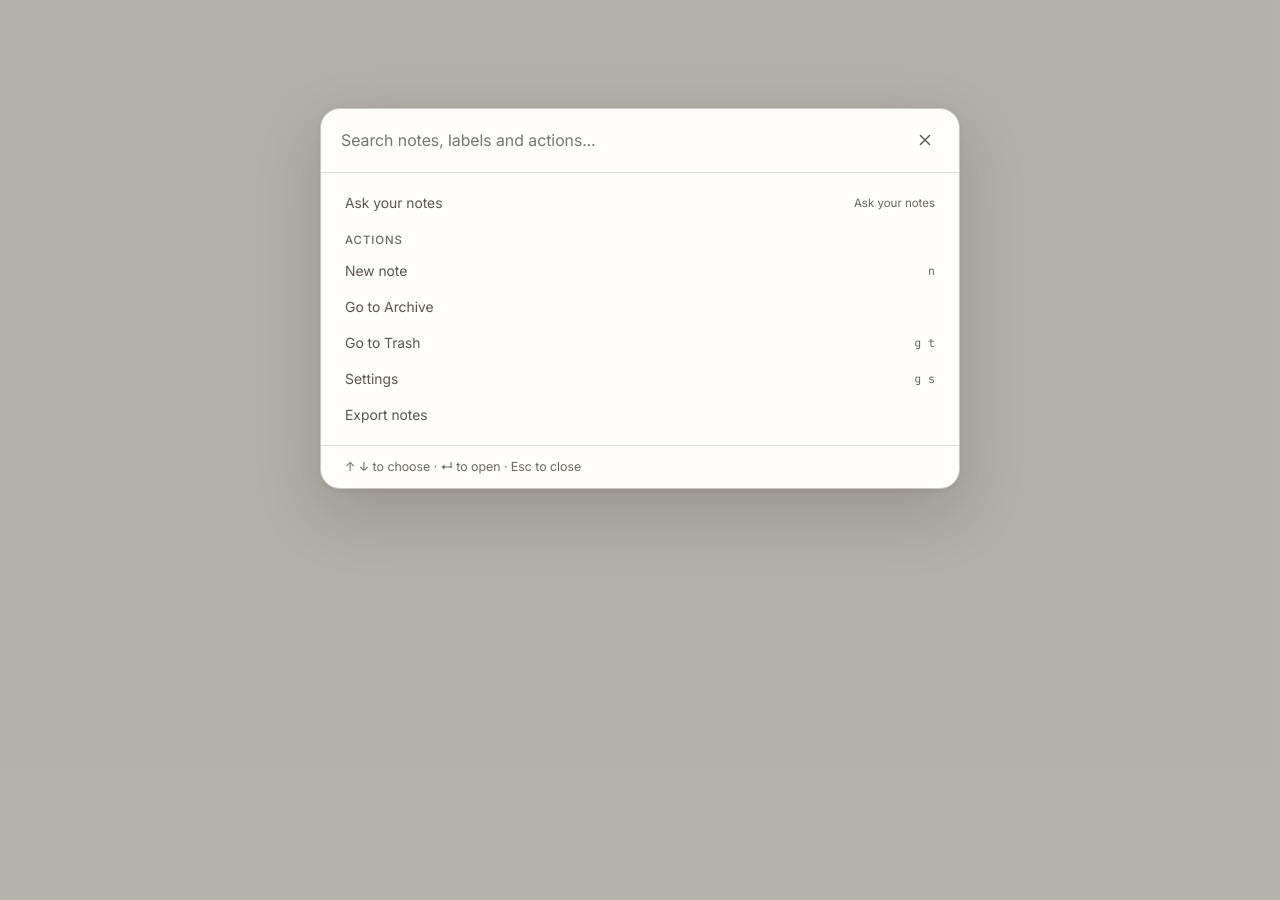
Scenario: shows the server's pause reason when Ask has used its allowance
The width and height of the screenshot is (1280, 900).
Click the option "Ask your notes Ask your notes".
click(394, 202)  # box 333,185 -> 947,221
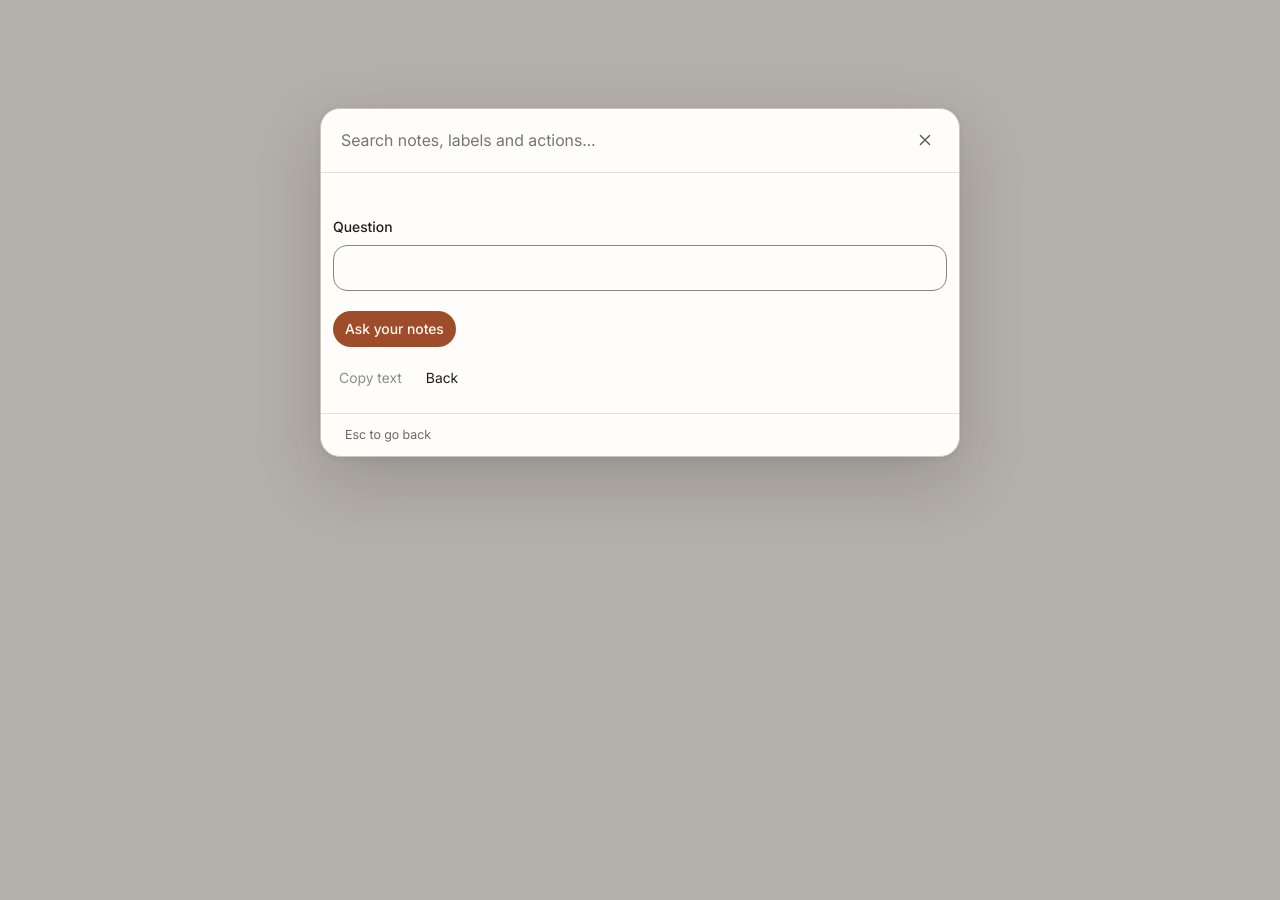
Type "Where is coffee?" into the field labelled "Question".
click(640, 268); type("Where is coffee?")  # box 333,245 -> 947,291
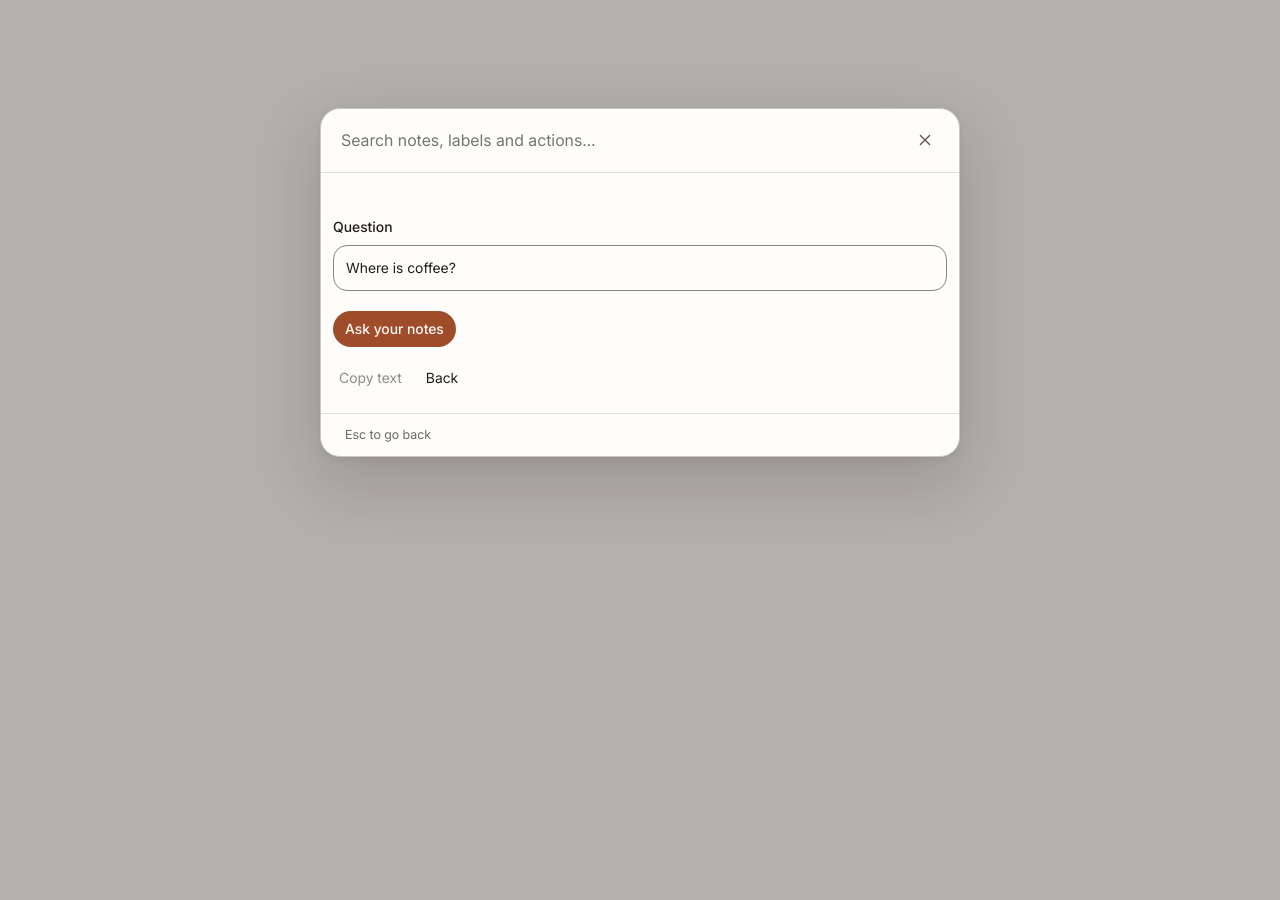
Click the button "Ask your notes".
click(394, 329)  # box 333,311 -> 456,347
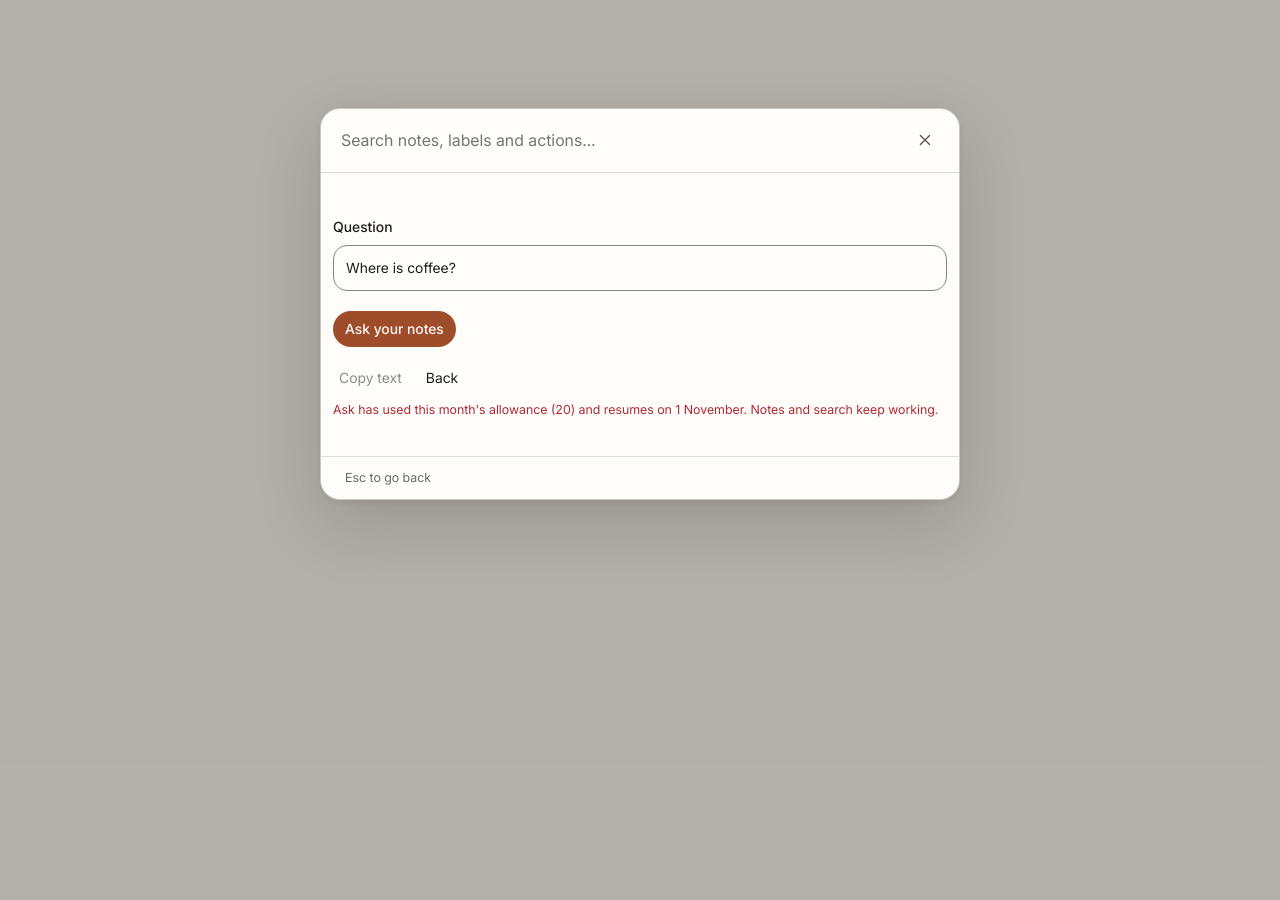
Now the text "Ask has used this month's allowance (20) and resumes on 1 November. Notes and search keep working." is shown, box 333,402 -> 938,417
